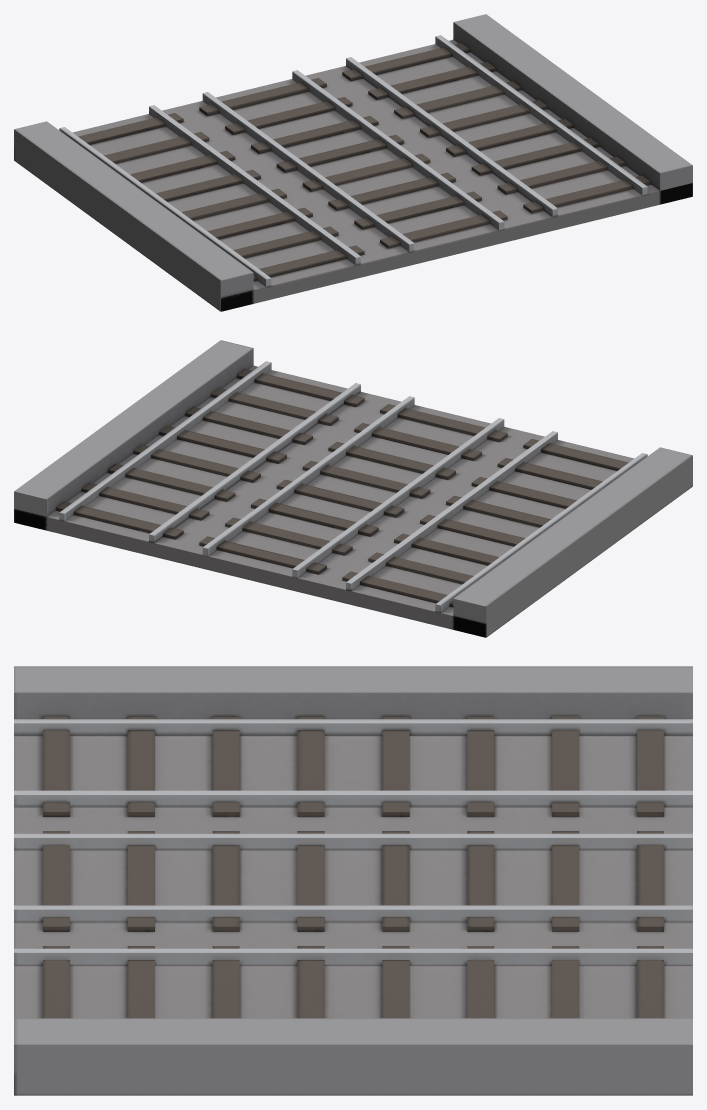
File: track.glb
The picture shows the model from 3 angles, top to bottom: view 1: azimuth 30°, elevation 25°; view 2: azimuth 150°, elevation 25°; view 3: azimuth 270°, elevation 25°; orthographic projection. The views are drawn at different scales.
Visible parts, largest first — view 1: track; view 2: track; view 3: track.
Part boxes in pixels (box(x1,y1,x2,y2)): track: box(14, 14, 692, 311); track: box(14, 340, 692, 637); track: box(14, 666, 692, 1095).
Size of the model in its own units: 7.91 by 0.5 by 6.
4 materials, 4 textured.
